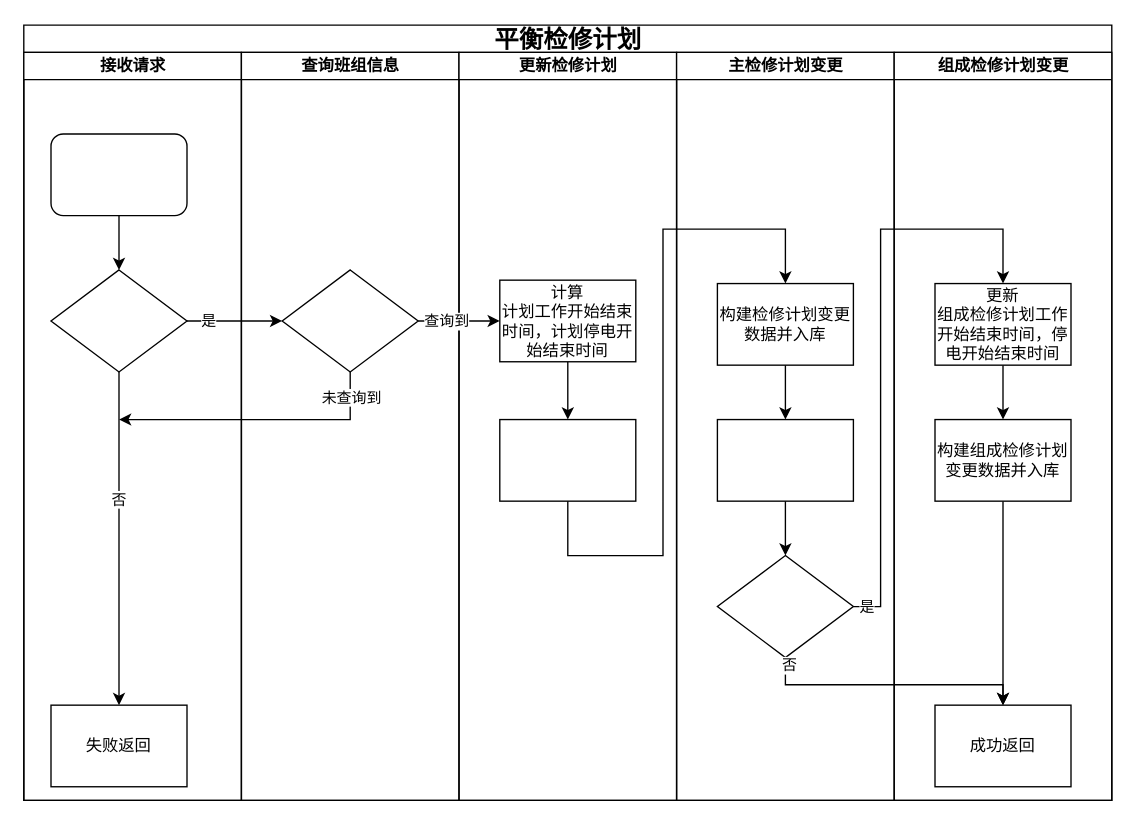
The diagram is 1136 pixels wide and 824 high, and some of its shapes have lost their labels. Each missing label, with the box of its shape:
参数验证: (50, 269, 187, 372)
存在组成计划: (716, 554, 853, 658)
开始: (50, 133, 187, 216)
更新 检修计划: (498, 418, 636, 501)
查询班组人员: (281, 269, 418, 372)
查询计划的 组成计划: (716, 418, 853, 501)
